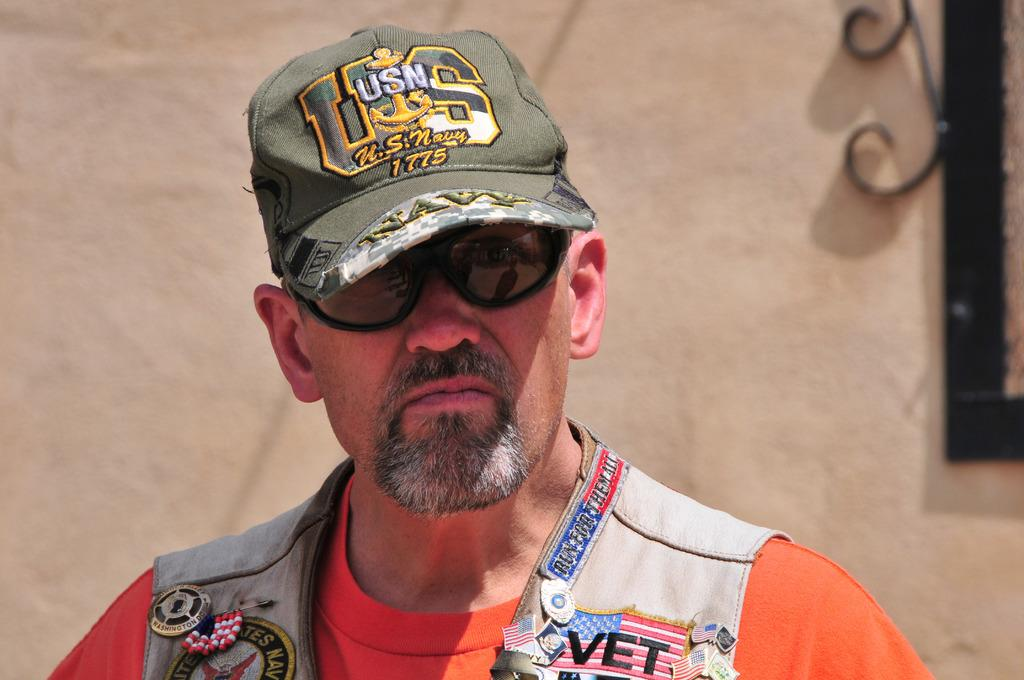Hat: (246, 20, 598, 304)
